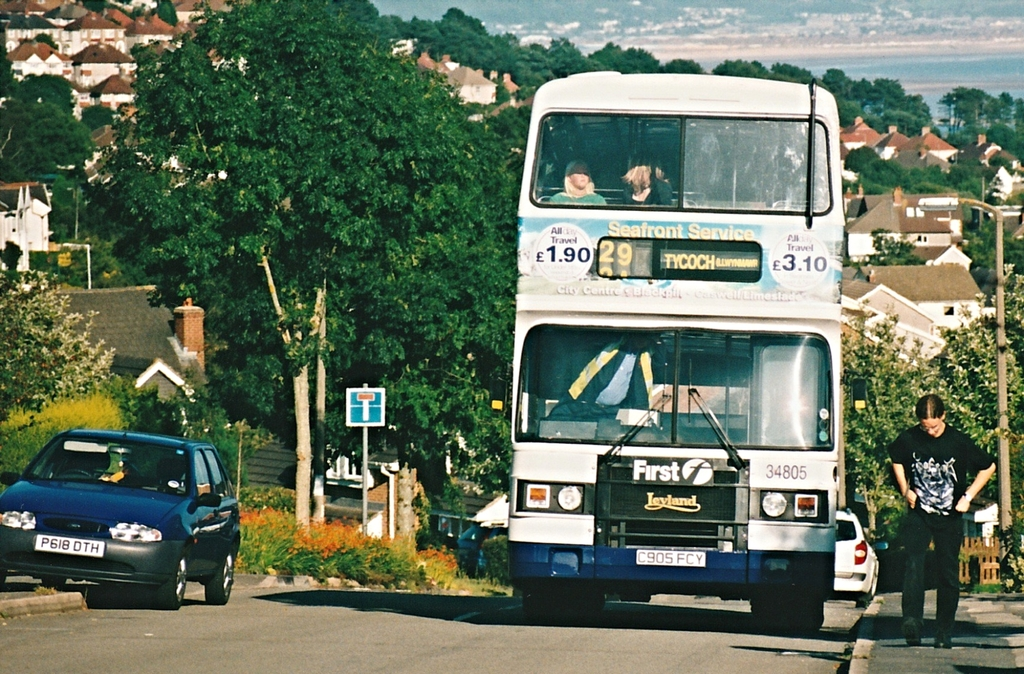mobil: (3, 428, 258, 622)
